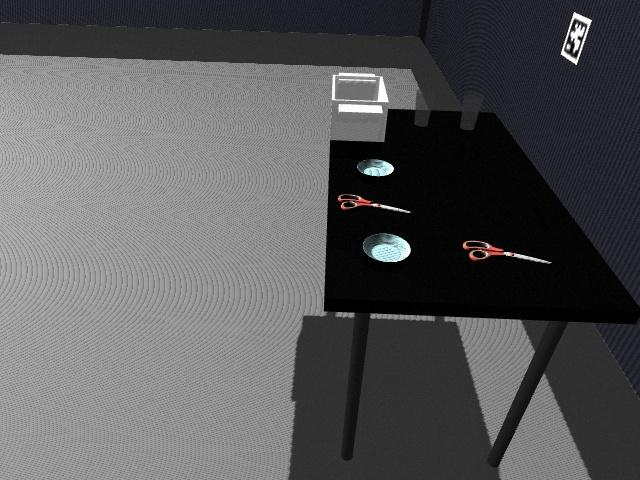cup: (459, 90, 484, 131), (413, 89, 432, 128)
plate: (361, 232, 412, 264), (356, 158, 396, 178)
scissors: (462, 238, 552, 265), (337, 193, 411, 215)
